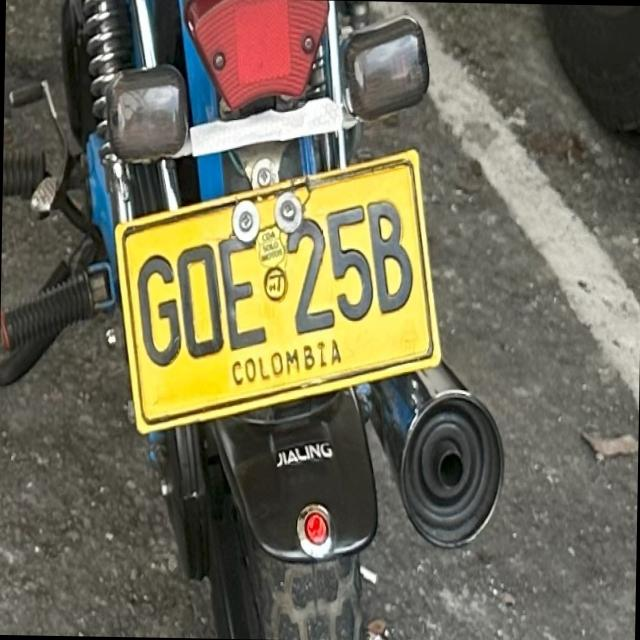number plate: (114, 149, 439, 430)
